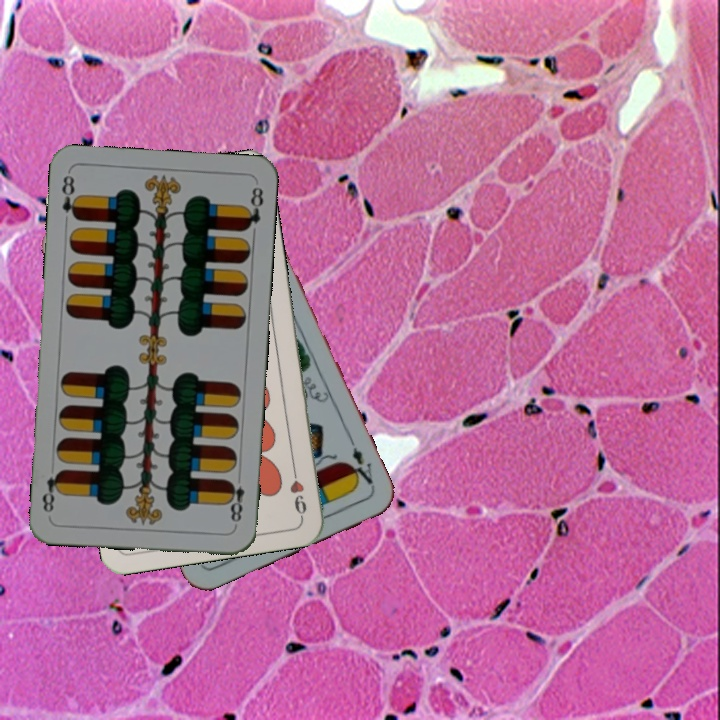E8: (57, 171, 82, 223), (223, 476, 247, 529)
EA: (345, 443, 376, 491)
H9: (285, 461, 310, 520)
